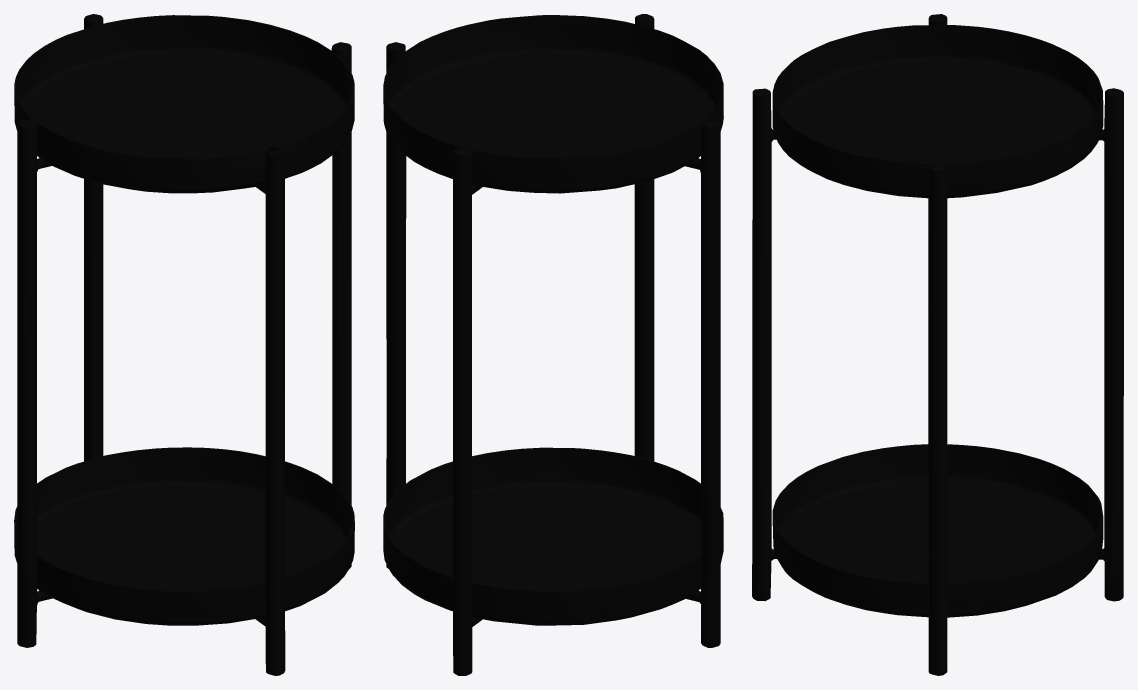
File: olivblad_stojak_na_doniczke_10486652.glb
The picture shows the model from 3 angles, left to right: view 1: azimuth 30°, elevation 25°; view 2: azimuth 150°, elevation 25°; view 3: azimuth 270°, elevation 25°; orthographic projection. The views are drawn at different scales.
Visible parts, largest first — view 1: olivblad_stojak_na_doniczke_10486652; view 2: olivblad_stojak_na_doniczke_10486652; view 3: olivblad_stojak_na_doniczke_10486652.
Part boxes in pixels (x1,y1,x2,y2): olivblad_stojak_na_doniczke_10486652: (14,14,354,675); olivblad_stojak_na_doniczke_10486652: (383,14,723,675); olivblad_stojak_na_doniczke_10486652: (752,14,1123,675).
Bounding box in the file's own units: 0.2329 × 0.3501 × 0.2329.
Materials: 1 (1 with a texture image).
